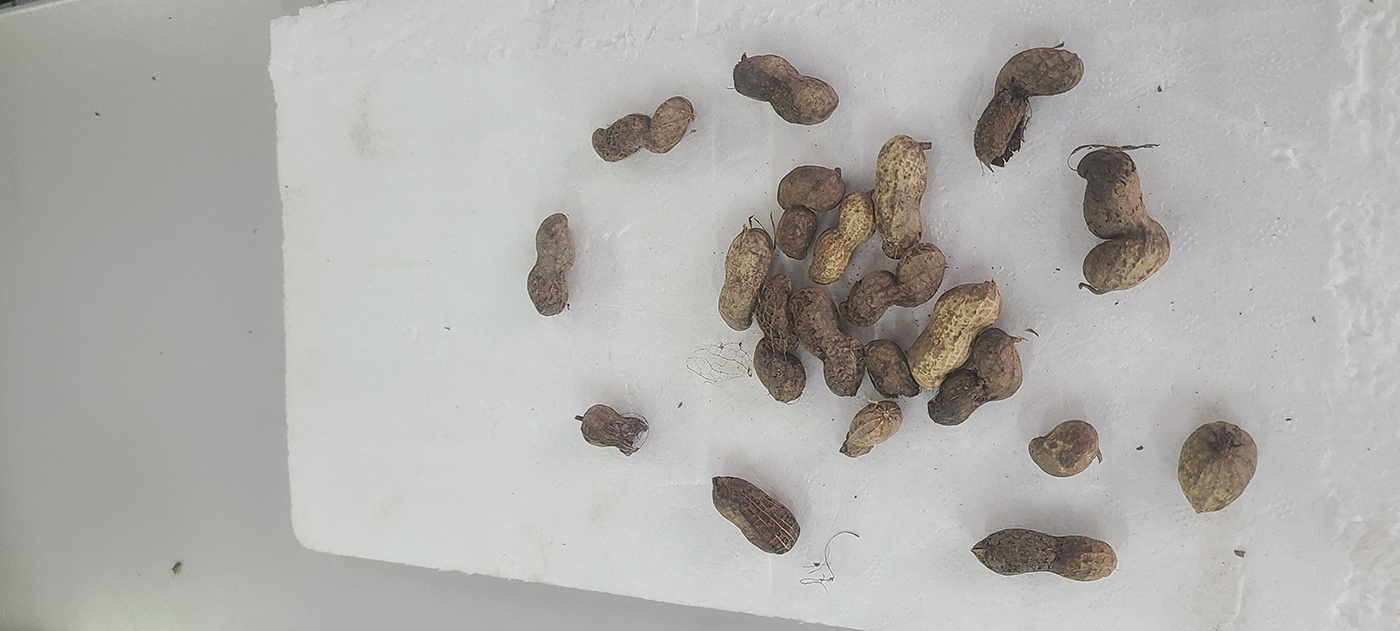l: (1077, 148, 1170, 294), (974, 46, 1084, 168), (909, 282, 1001, 389), (928, 328, 1024, 426), (840, 243, 946, 326), (789, 286, 865, 396), (971, 528, 1118, 581), (733, 53, 839, 125), (1177, 421, 1258, 513), (711, 475, 801, 555), (591, 94, 694, 161), (873, 134, 927, 259), (753, 275, 806, 402), (808, 191, 875, 283), (718, 226, 773, 330), (528, 213, 575, 316), (1028, 420, 1100, 478), (841, 400, 902, 457), (582, 405, 647, 455), (777, 165, 845, 211), (867, 339, 920, 398), (776, 206, 817, 260)
